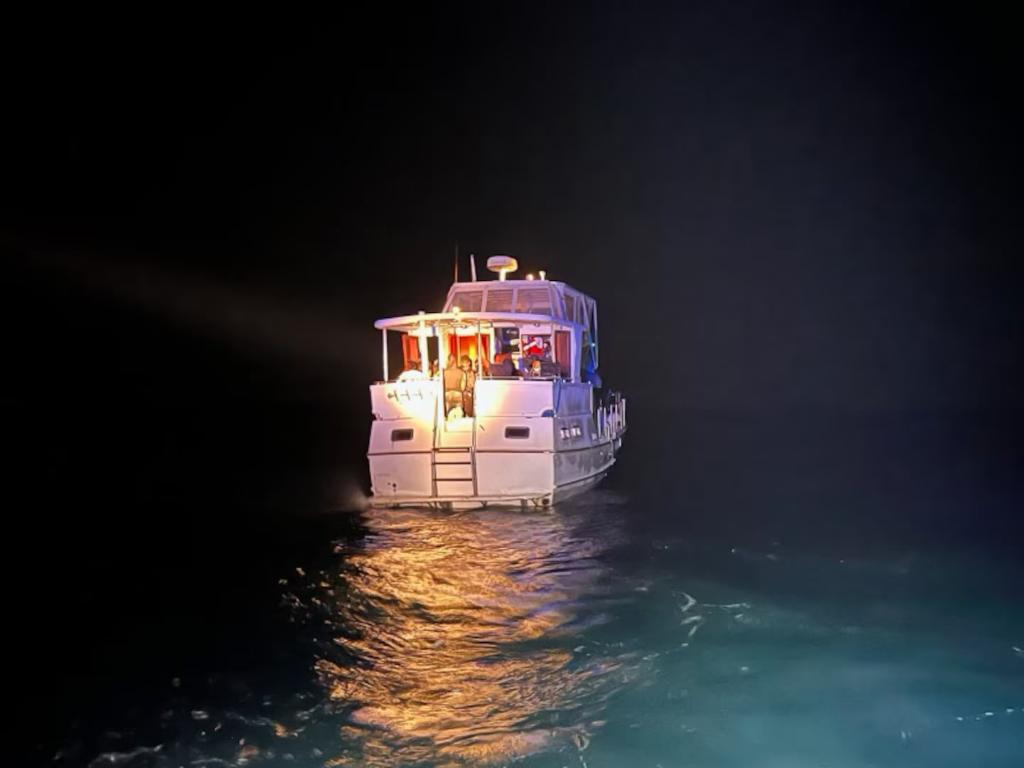PassengerShip: (365, 252, 631, 514)
